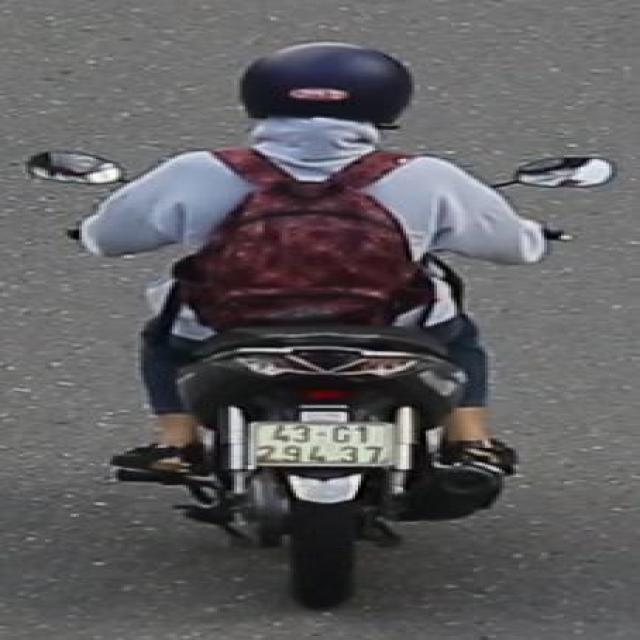LP: (246, 416, 404, 468)
helmet: (234, 38, 423, 146)
